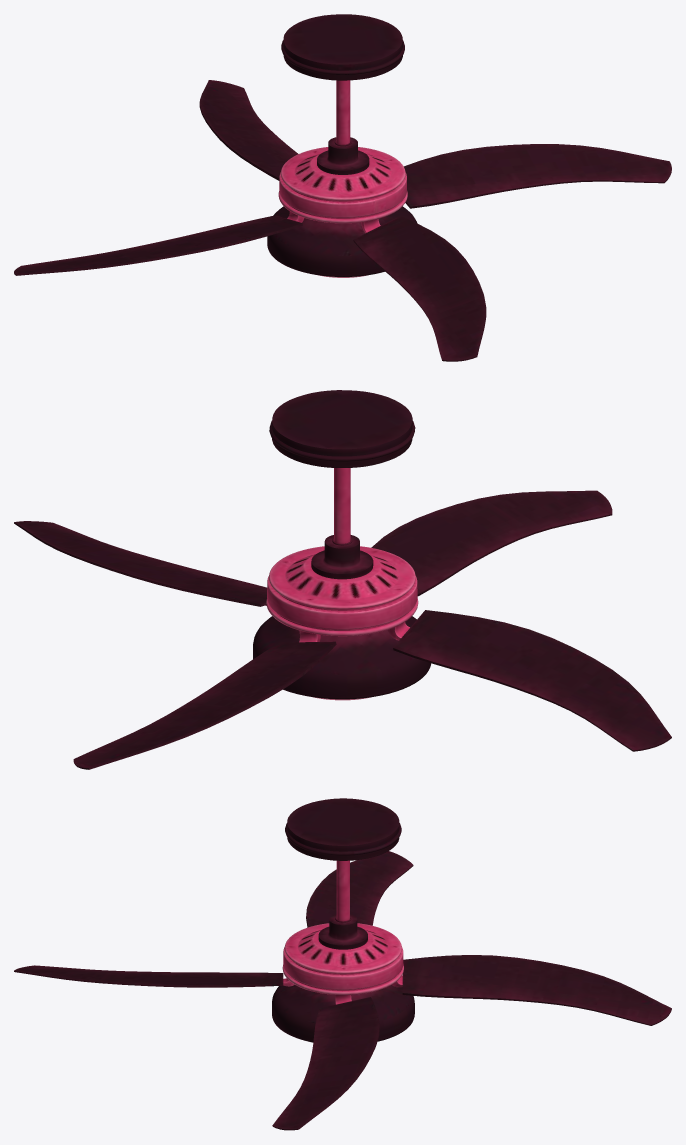
File: nyb_batteries_fan.glb
3 views of the same model, one above another, from view 1: azimuth 30°, elevation 25°; view 2: azimuth 150°, elevation 25°; view 3: azimuth 270°, elevation 25° (orthographic). The views are drawn at different scales.
Parts seen in each view (by area): view 1: ceiling_fan; view 2: ceiling_fan; view 3: ceiling_fan.
Boxes of the visible parts, left/top/right/bottom form: ceiling_fan: left=14, top=14, right=671, bottom=361; ceiling_fan: left=14, top=390, right=671, bottom=769; ceiling_fan: left=14, top=798, right=671, bottom=1130.
Size of the model in its own units: 1.46 by 0.5163 by 1.46.
Materials: 1 (1 with a texture image).
